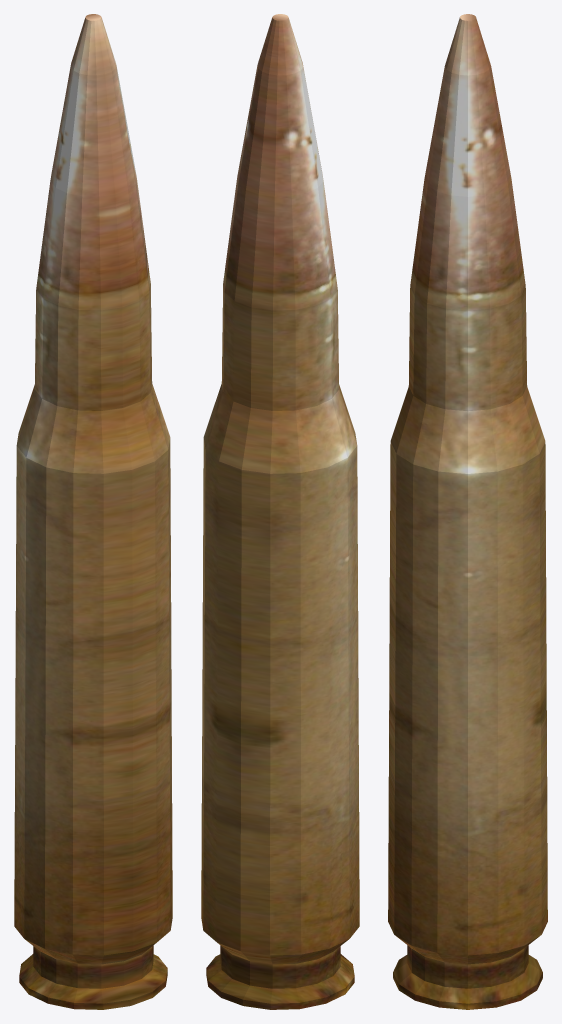
File: bullet.fbx
The picture shows the model from 3 angles, left to right: view 1: azimuth 30°, elevation 25°; view 2: azimuth 150°, elevation 25°; view 3: azimuth 270°, elevation 25°; orthographic projection.
Parts seen in each view (by area): view 1: bullet; view 2: bullet; view 3: bullet.
Boxes of the visible parts, x1=… form: bullet: x1=14, y1=14, x2=172, y2=1009; bullet: x1=201, y1=14, x2=359, y2=1009; bullet: x1=388, y1=14, x2=547, y2=1009.
Size of the model in its own units: 1.44 by 9.56 by 1.44.
